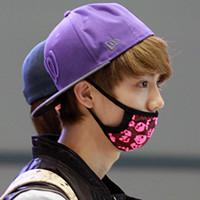WRONG: (84, 71, 165, 152)
